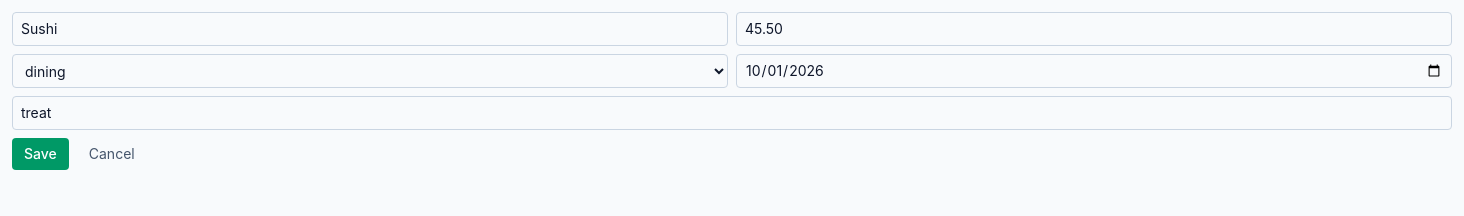
it: EntryEditor › does not save with empty title
Step 1. Clear the field named "Title" → {"x": 370, "y": 29}, box 12,12 -> 728,46
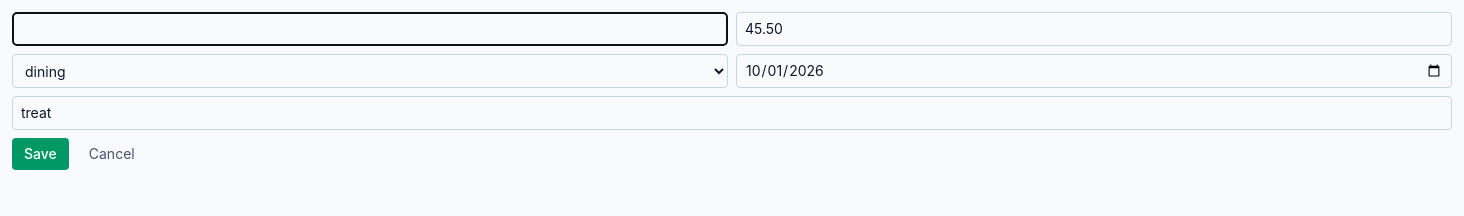
Step 2. Click the button "Save" → {"x": 40, "y": 154}, box 12,138 -> 69,170
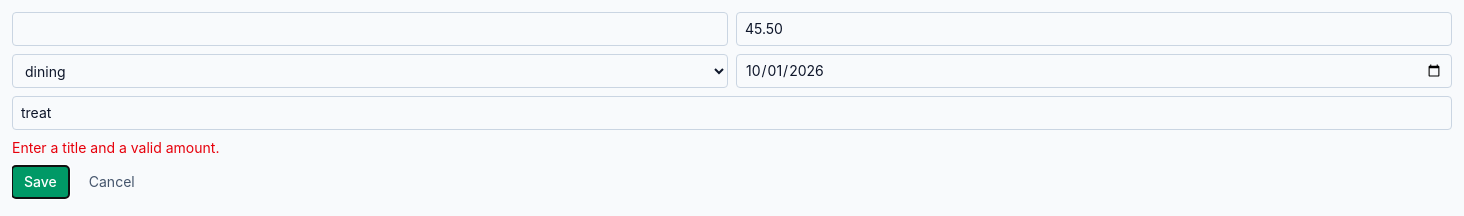
Expected: the text "Enter a title and a valid amount." is shown, 12,139 -> 219,156
